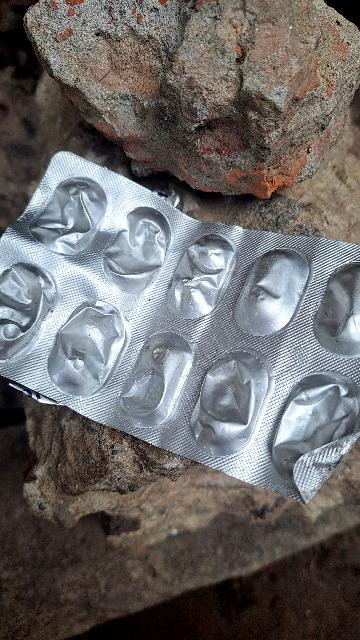medicine: (0, 141, 360, 502)
